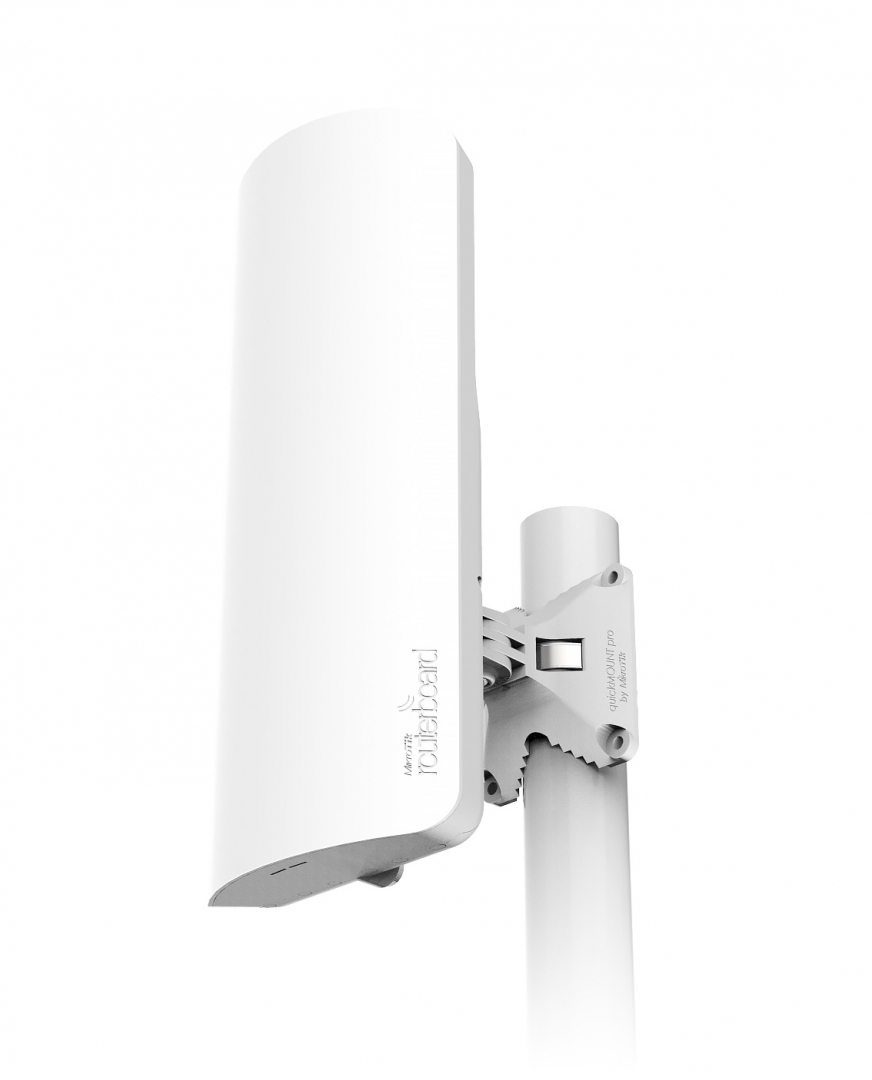sa: (185, 78, 640, 969)
